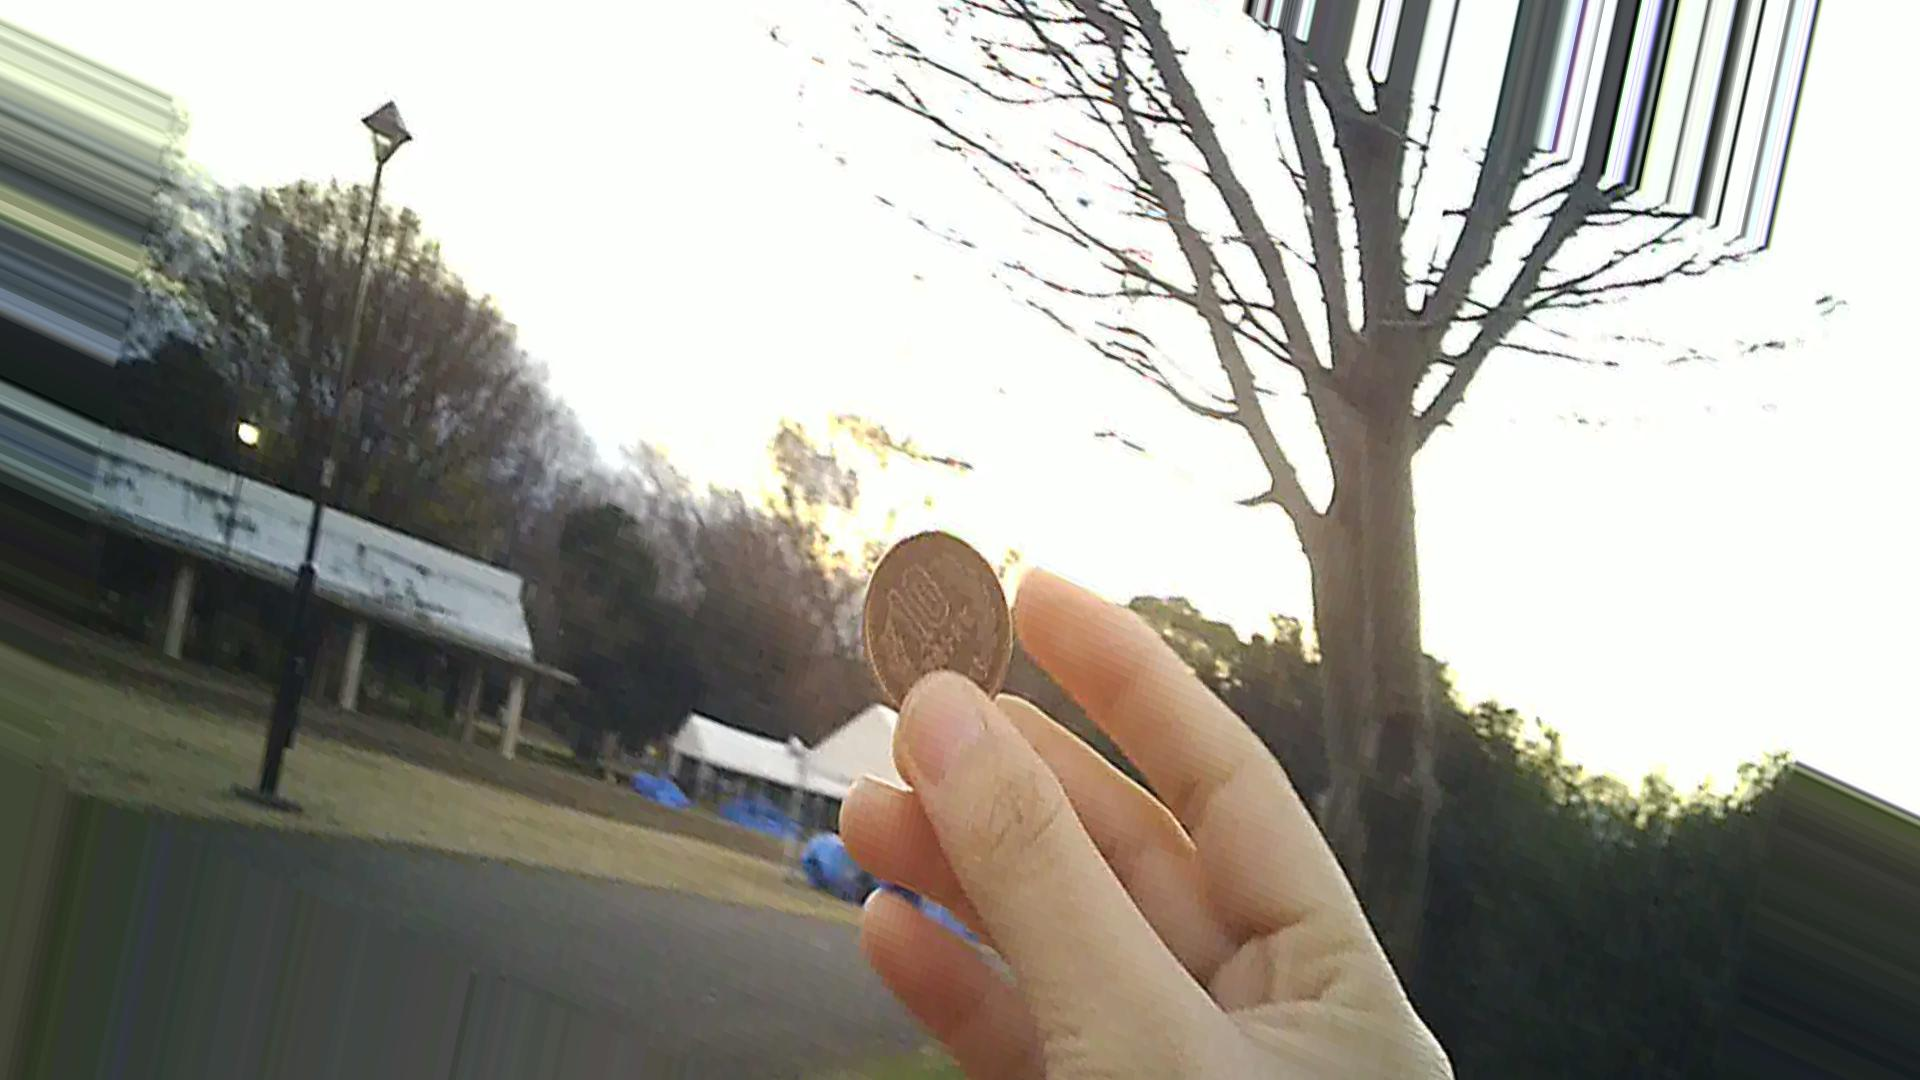10 Yen: (861, 535, 1033, 729)
